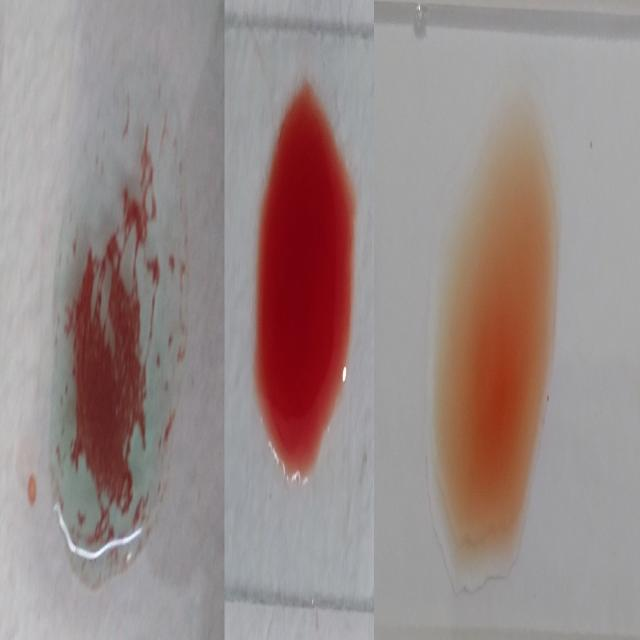A: (52, 54, 176, 594)
